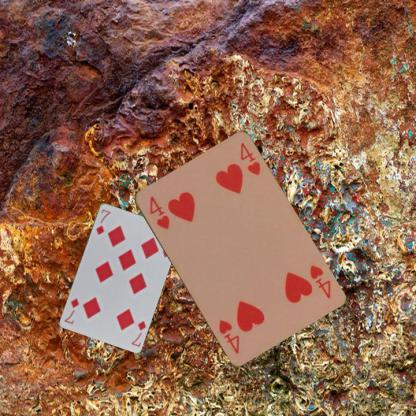4h: (146, 193, 171, 231), (307, 262, 332, 300)
7d: (93, 206, 112, 236), (128, 318, 147, 348)
